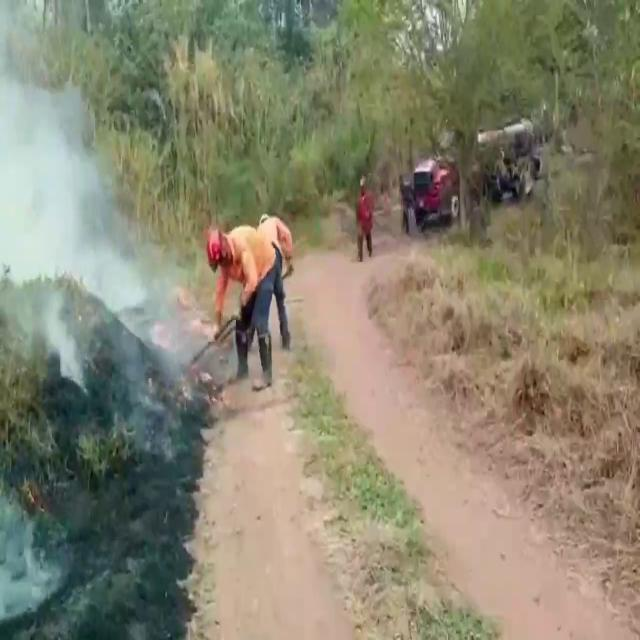Smoke: (0, 0, 194, 385)
